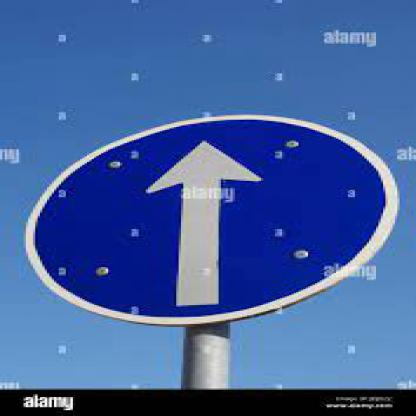straight: (17, 91, 410, 332)
